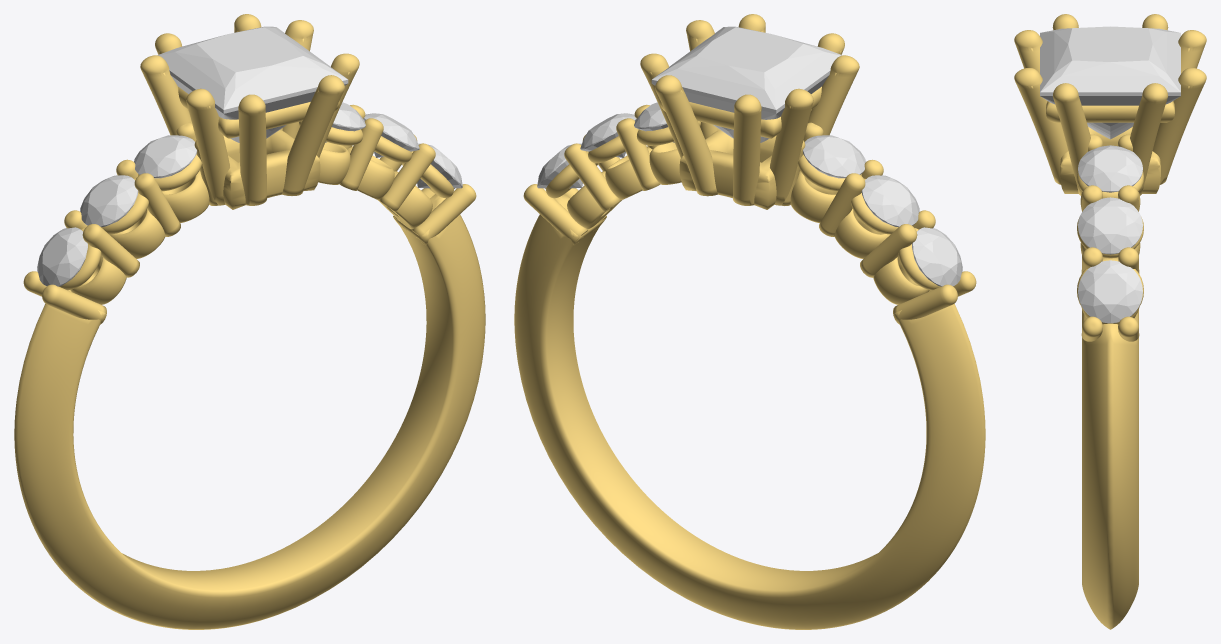
Rendered from diamond-princess-yellowgold-8prong-knifeedge-7stone.glb.
3 views of the same model, side by side, from view 1: azimuth 30°, elevation 25°; view 2: azimuth 150°, elevation 25°; view 3: azimuth 270°, elevation 25° (orthographic). The views are drawn at different scales.
Visible parts, largest first — view 1: metal, stone, side, side.001, side.002, side.004, side.005, side.003; view 2: metal, stone, side, side.001, side.002, side.004, side.005, side.003; view 3: metal, stone, side.005, side.004, side.003.
Part boxes in pixels (left/top/right/bottom): metal: left=14, top=14, right=485, bottom=629; stone: left=157, top=26, right=348, bottom=142; side: left=37, top=227, right=87, bottom=286; side.001: left=80, top=175, right=138, bottom=227; side.002: left=134, top=135, right=196, bottom=178; side.004: left=363, top=113, right=419, bottom=157; side.005: left=417, top=143, right=462, bottom=188; side.003: left=325, top=102, right=365, bottom=142; metal: left=514, top=14, right=985, bottom=629; stone: left=651, top=26, right=842, bottom=142; side: left=912, top=227, right=962, bottom=286; side.001: left=861, top=175, right=919, bottom=227; side.002: left=803, top=135, right=865, bottom=178; side.004: left=580, top=113, right=636, bottom=157; side.005: left=537, top=143, right=582, bottom=188; side.003: left=634, top=102, right=674, bottom=142; metal: left=1014, top=14, right=1206, bottom=629; stone: left=1040, top=26, right=1180, bottom=139; side.005: left=1078, top=260, right=1142, bottom=323; side.004: left=1078, top=197, right=1142, bottom=254; side.003: left=1078, top=145, right=1142, bottom=192.
Bounding box in the file's own units: 20.5 × 23.85 × 7.42.
